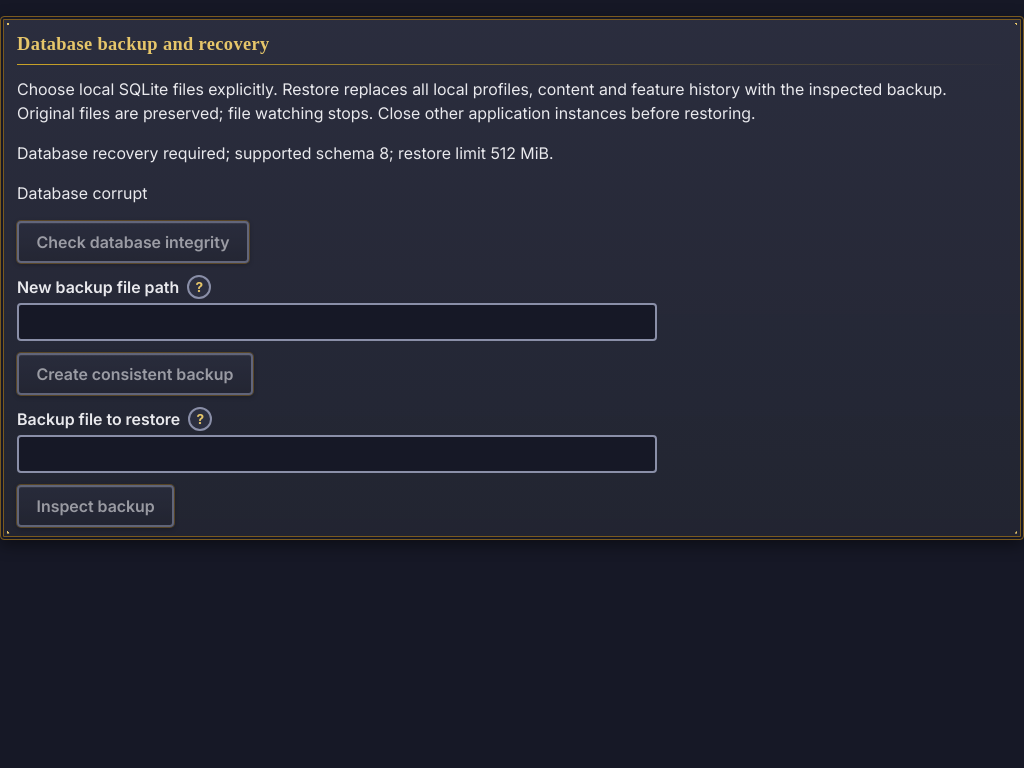
it: corrupt startup still permits inspecting a backup while healthy-only controls stay disabled
Check: the text "Database recovery required" is shown, box [17, 143, 225, 163]
Check: the button "Check database integrity" is disabled, box [17, 221, 249, 263]
Type "good.sqlite3" into the field labelled "Backup file to restore".
click(337, 454); type("good.sqlite3")  # box [17, 435, 657, 473]
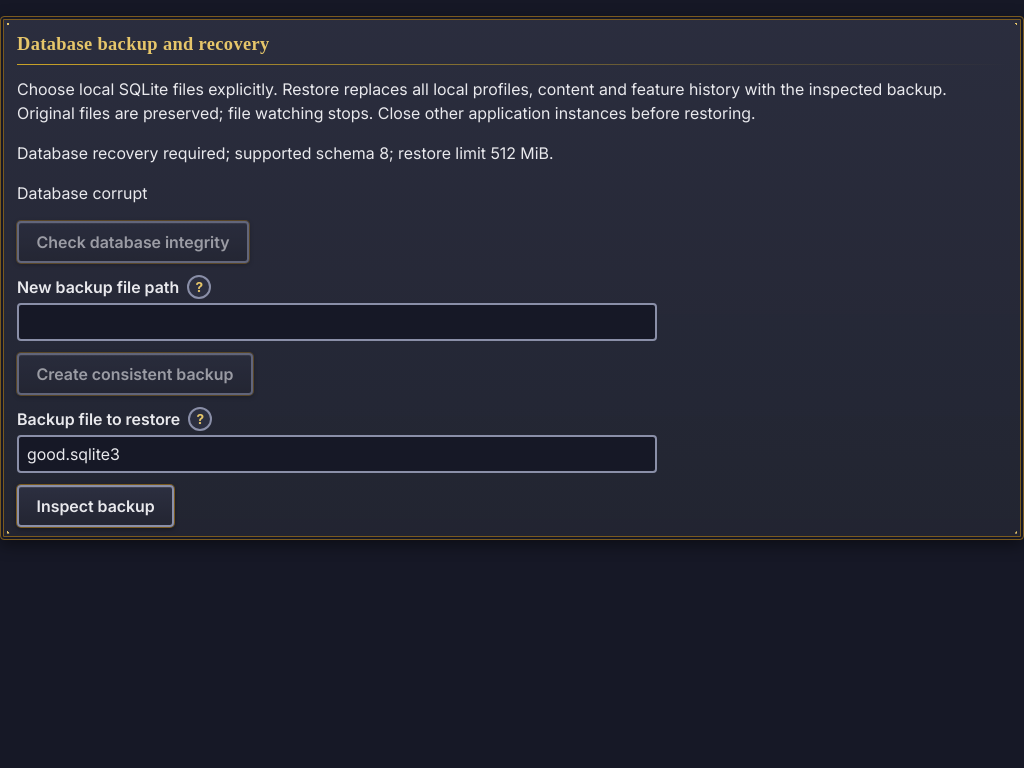
Check: the button "Inspect backup" is enabled, box [17, 485, 174, 527]
